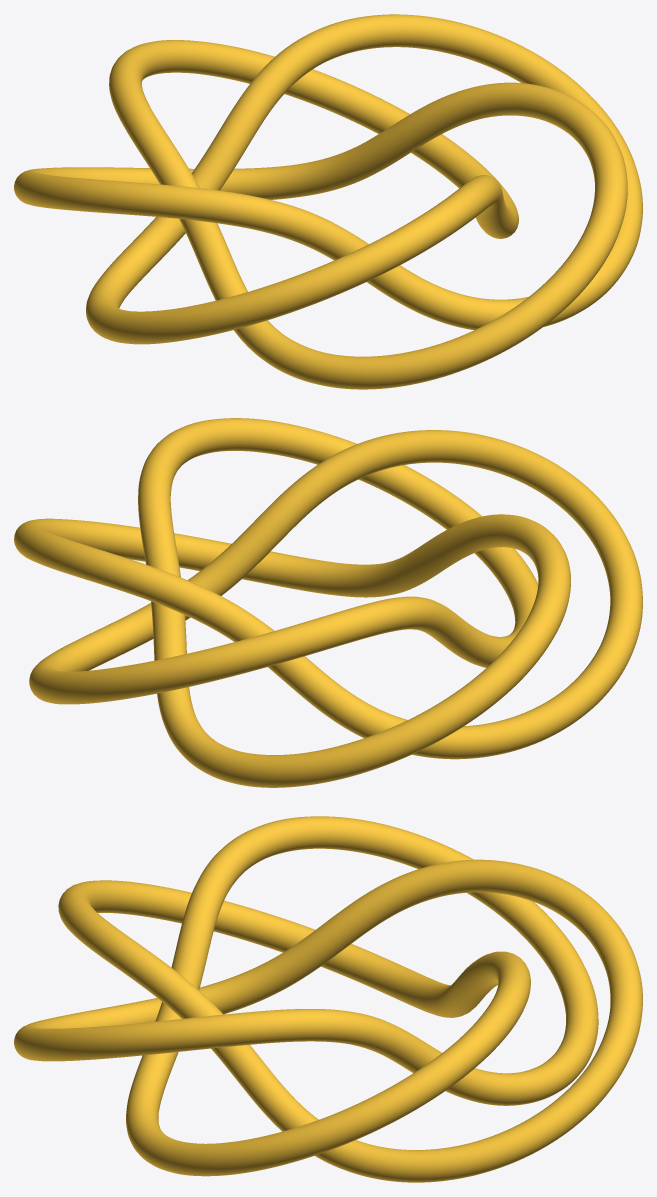
Rendered from aetheris-knot.glb.
3 views of the same model, one above another, from view 1: azimuth 30°, elevation 25°; view 2: azimuth 150°, elevation 25°; view 3: azimuth 270°, elevation 25° (orthographic).
Visible parts, largest first — view 1: AetherisMark.Knot; view 2: AetherisMark.Knot; view 3: AetherisMark.Knot.
Part boxes in pixels (bbox=[...]): AetherisMark.Knot: bbox=[14, 14, 642, 389]; AetherisMark.Knot: bbox=[14, 418, 642, 787]; AetherisMark.Knot: bbox=[14, 816, 642, 1182].
Bounding box in the file's own units: 0.1136 × 0.034 × 0.1157.
